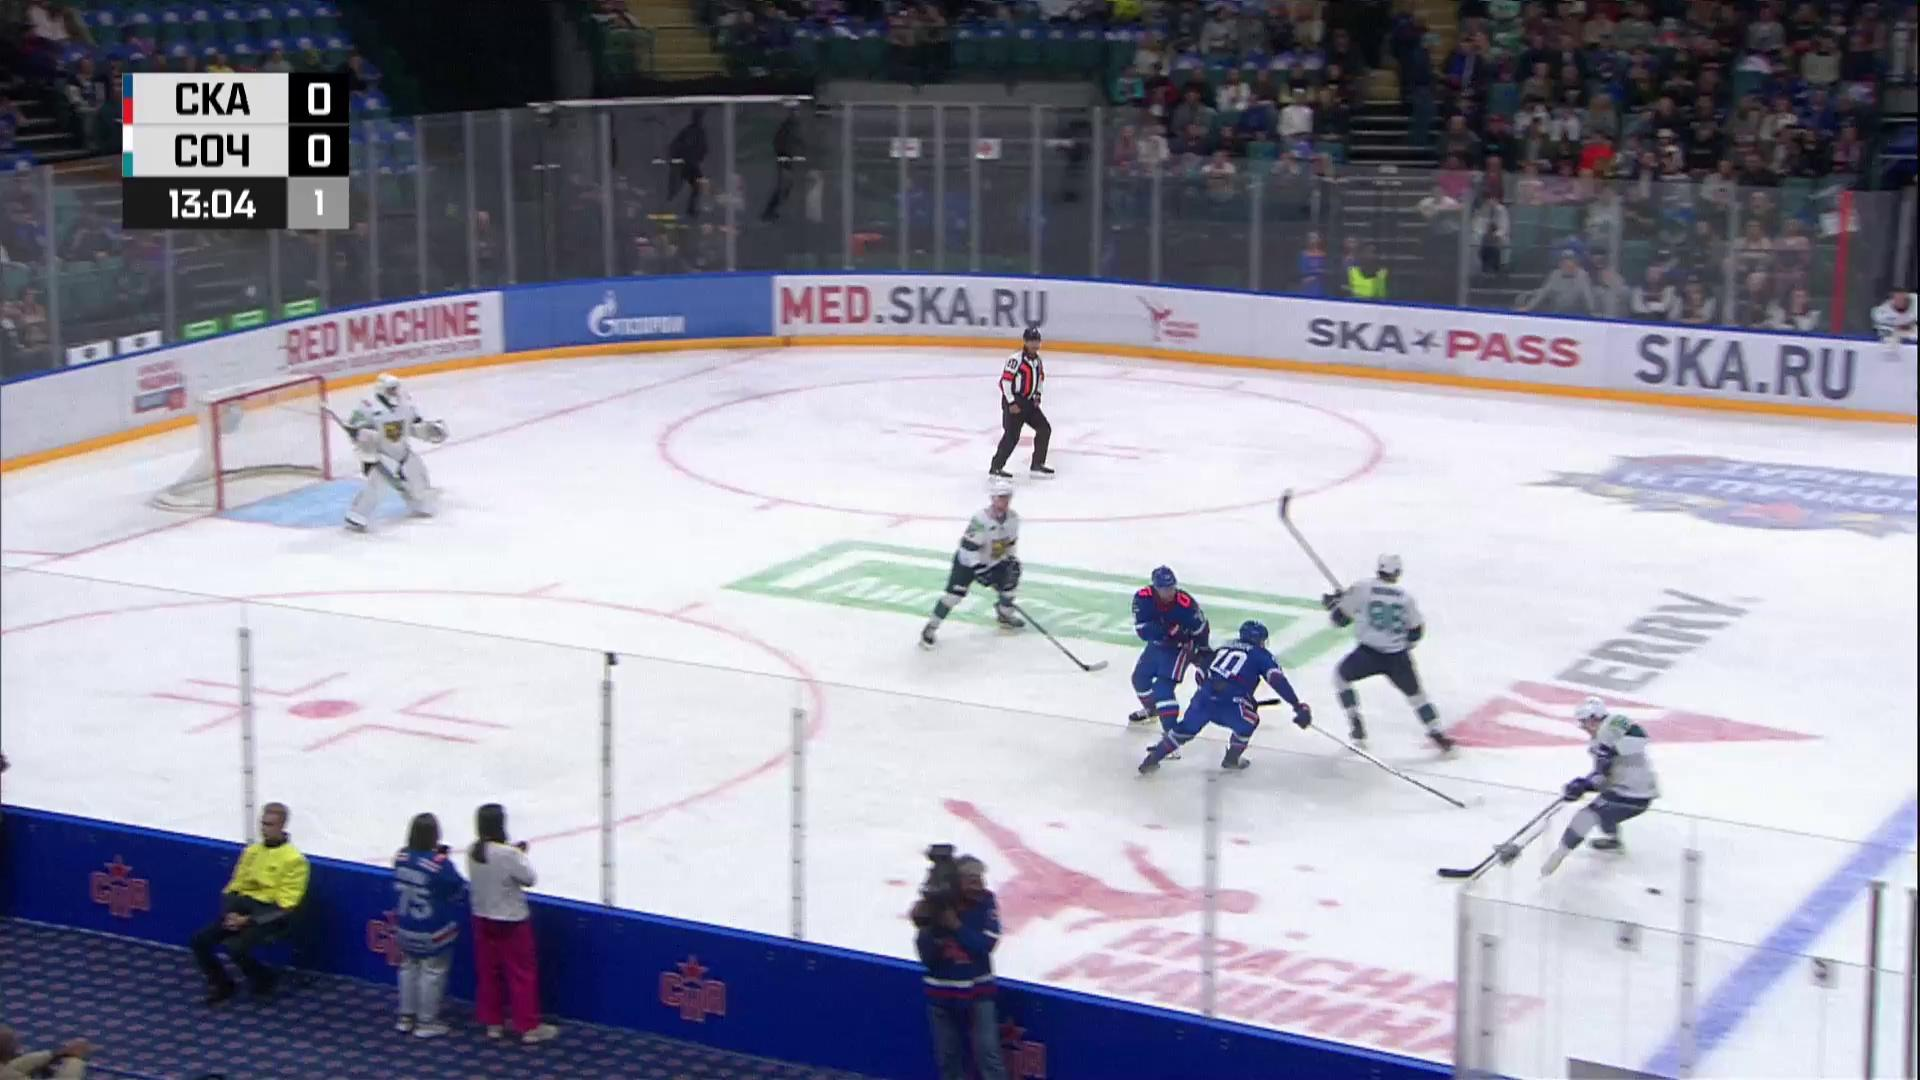ball: (1646, 887, 1662, 897)
